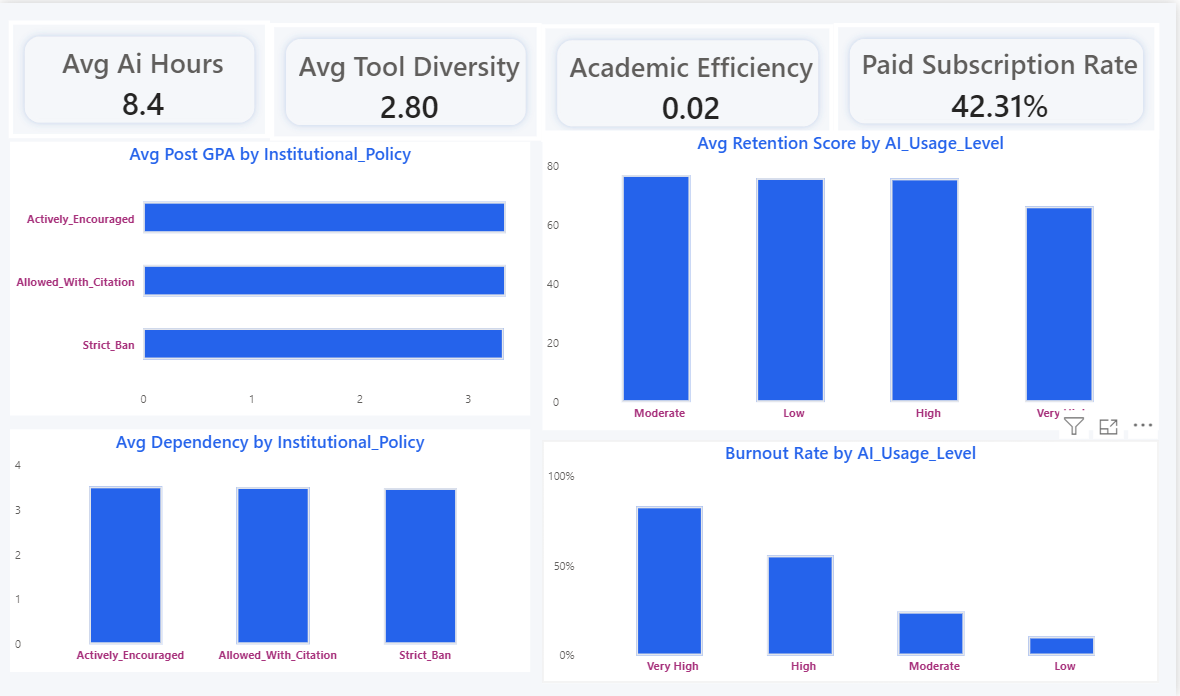

The page's visual inventory and layout, read from the dashboard file:
{"tool":"powerbi","page":{"name":"ADOPTION & POLICY","canvas":[1271,750],"ordinal":3},"visuals":[{"type":"cardVisual","fields":{"Data":["Ai Adoption.Avg Ai Hours"]},"box":[9.7,19.4,282.3,127.4],"z":0},{"type":"cardVisual","fields":{"Data":["Ai Adoption.Paid Subscription Rate"]},"box":[901.6,21,351.6,125.8],"z":1000},{"type":"cardVisual","fields":{"Data":["Ai Adoption.Avg Tool Diversity"]},"box":[291.9,21,293.5,127.4],"z":2000},{"type":"cardVisual","fields":{"Data":["ACADEMIC PERFORMANCE.Academic Efficiency"]},"box":[585.5,22.6,316.1,127.4],"z":3000},{"type":"clusteredBarChart","fields":{"Y":["ACADEMIC PERFORMANCE.Avg Post GPA"],"Category":["Dim_Policy.Institutional_Policy"]},"box":[11.2,150,562.5,296.2],"z":4000},{"type":"clusteredColumnChart","fields":{"Category":["Dim_Policy.Institutional_Policy"],"Y":["LEARNING EFFECTIVENESS.Avg Dependency"]},"box":[11.2,461.2,562.5,262.5],"z":5000},{"type":"columnChart","fields":{"Category":["ai_student_impact_dataset (1).AI_Usage_Level"],"Y":["LEARNING EFFECTIVENESS.Avg Retention Score"]},"box":[586.2,137.5,666.2,323.8],"z":6000},{"type":"columnChart","fields":{"Y":["STUDENT WELL-BEING.Burnout Rate"],"Category":["ai_student_impact_dataset (1).AI_Usage_Level"]},"box":[586.2,472.5,666.2,262.5],"z":7000}]}

Visuals, with their boxes in screenshot pixels (x1, y1, x2, y2), scaled from the page's 1271x750 canvas onto the 1180x696 screenshot:
cardVisual - Ai Adoption.Avg Ai Hours: pyautogui.locateOnScreen(9, 18, 271, 136)
cardVisual - Ai Adoption.Paid Subscription Rate: pyautogui.locateOnScreen(837, 19, 1163, 136)
cardVisual - Ai Adoption.Avg Tool Diversity: pyautogui.locateOnScreen(271, 19, 543, 138)
cardVisual - ACADEMIC PERFORMANCE.Academic Efficiency: pyautogui.locateOnScreen(544, 21, 837, 139)
clusteredBarChart - ACADEMIC PERFORMANCE.Avg Post GPA x Dim_Policy.Institutional_Policy: pyautogui.locateOnScreen(10, 139, 533, 414)
clusteredColumnChart - Dim_Policy.Institutional_Policy x LEARNING EFFECTIVENESS.Avg Dependency: pyautogui.locateOnScreen(10, 428, 533, 672)
columnChart - ai_student_impact_dataset (1).AI_Usage_Level x LEARNING EFFECTIVENESS.Avg Retention Score: pyautogui.locateOnScreen(544, 128, 1163, 428)
columnChart - STUDENT WELL-BEING.Burnout Rate x ai_student_impact_dataset (1).AI_Usage_Level: pyautogui.locateOnScreen(544, 438, 1163, 682)
